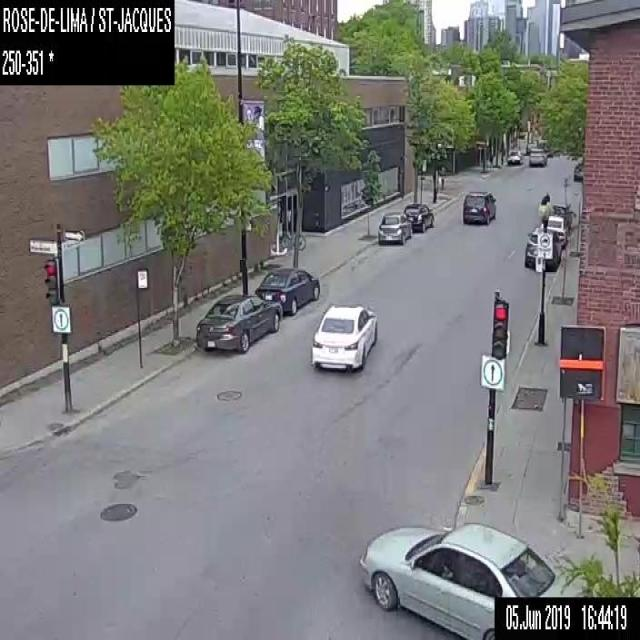vehicle: (357, 520, 575, 639), (194, 291, 284, 355), (310, 302, 379, 369), (257, 268, 319, 314), (525, 226, 559, 271), (460, 188, 496, 227), (376, 210, 412, 246), (540, 214, 569, 247), (403, 202, 434, 232), (552, 203, 572, 230), (528, 146, 546, 166), (506, 147, 522, 165), (573, 160, 582, 180)
